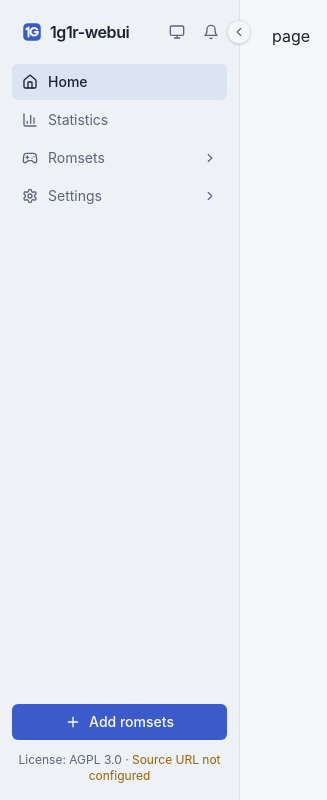
Test case: groups start closed and open on click, with the chevron turning
The width and height of the screenshot is (327, 800).
Click the button "Romsets": (120, 158) x1=12 y1=140 x2=227 y2=176
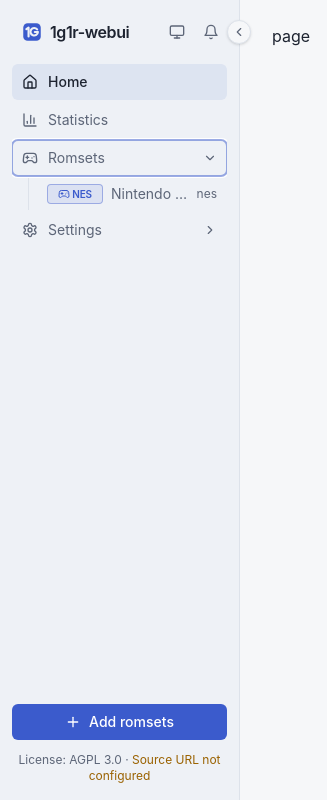
Result: the button "Romsets" is expanded
Click the button "Romsets": (120, 158) x1=12 y1=140 x2=227 y2=176
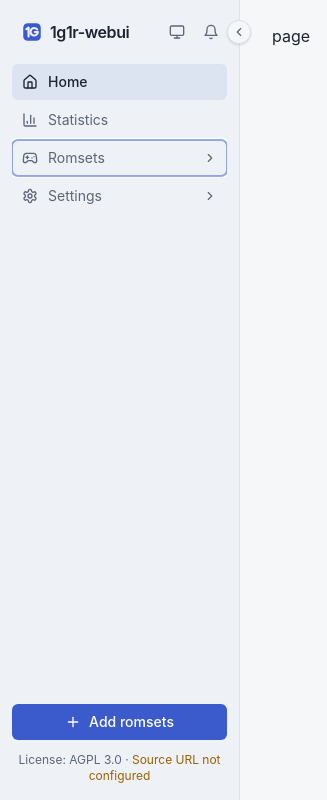
Result: the button "Romsets" is collapsed at x1=12 y1=140 x2=227 y2=176
